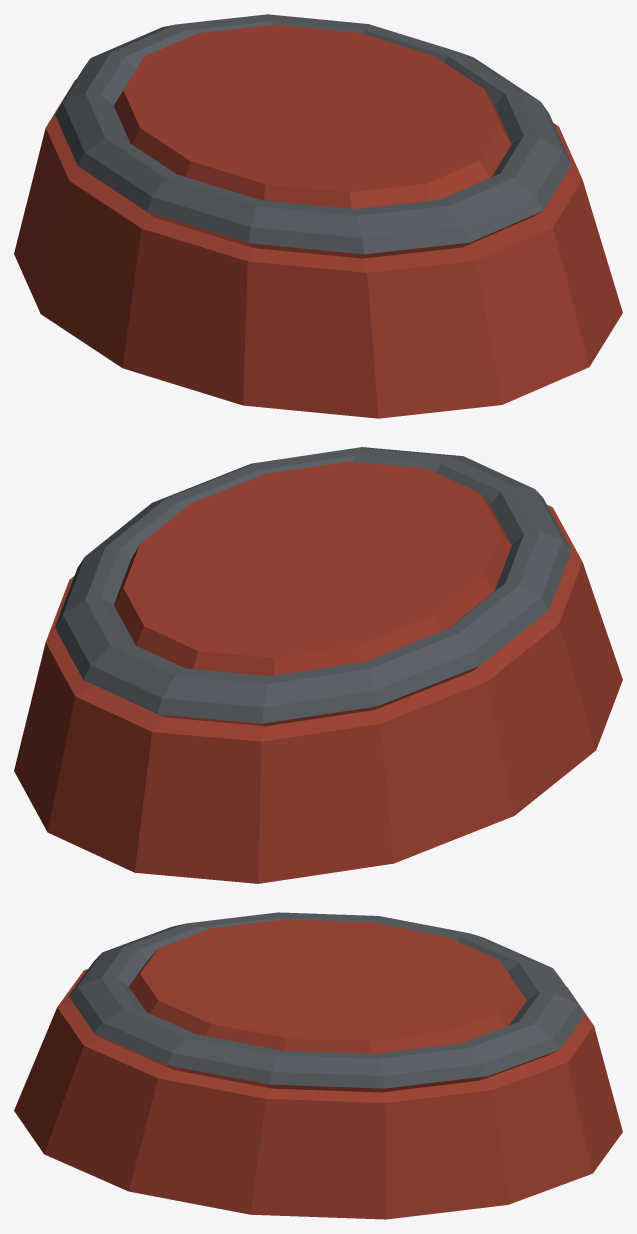
File: Fighter_05_Hatch_Red.fbx
3 renders of one model, top to bottom at view 1: azimuth 30°, elevation 25°; view 2: azimuth 150°, elevation 25°; view 3: azimuth 270°, elevation 25°, orthographic. The views are drawn at different scales.
Visible parts, largest first — view 1: Fighter_05_Hatch_Red; view 2: Fighter_05_Hatch_Red; view 3: Fighter_05_Hatch_Red.
Boxes of the visible parts, x1=… form: Fighter_05_Hatch_Red: x1=14, y1=14, x2=622, y2=418; Fighter_05_Hatch_Red: x1=14, y1=447, x2=622, y2=883; Fighter_05_Hatch_Red: x1=14, y1=912, x2=622, y2=1219.
Size of the model in its own units: 177 by 68.16 by 237.
1 material, 1 textured.
